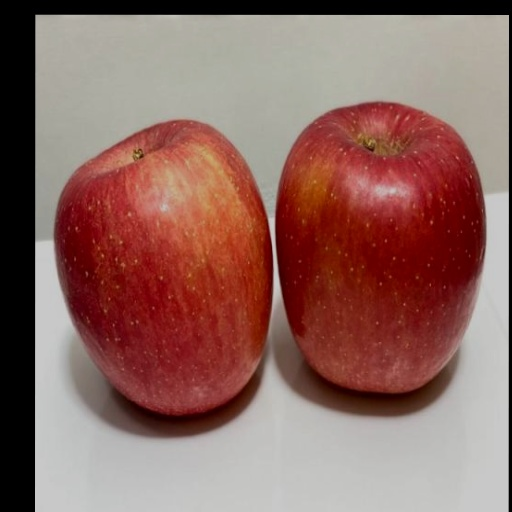fruit: (54, 121, 271, 415), (276, 103, 485, 392)
